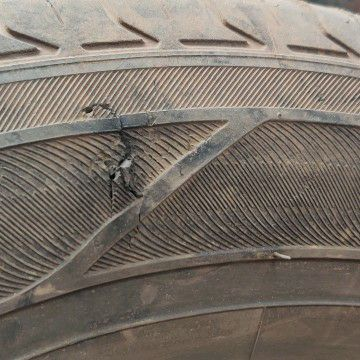cut: (74, 101, 148, 204)
